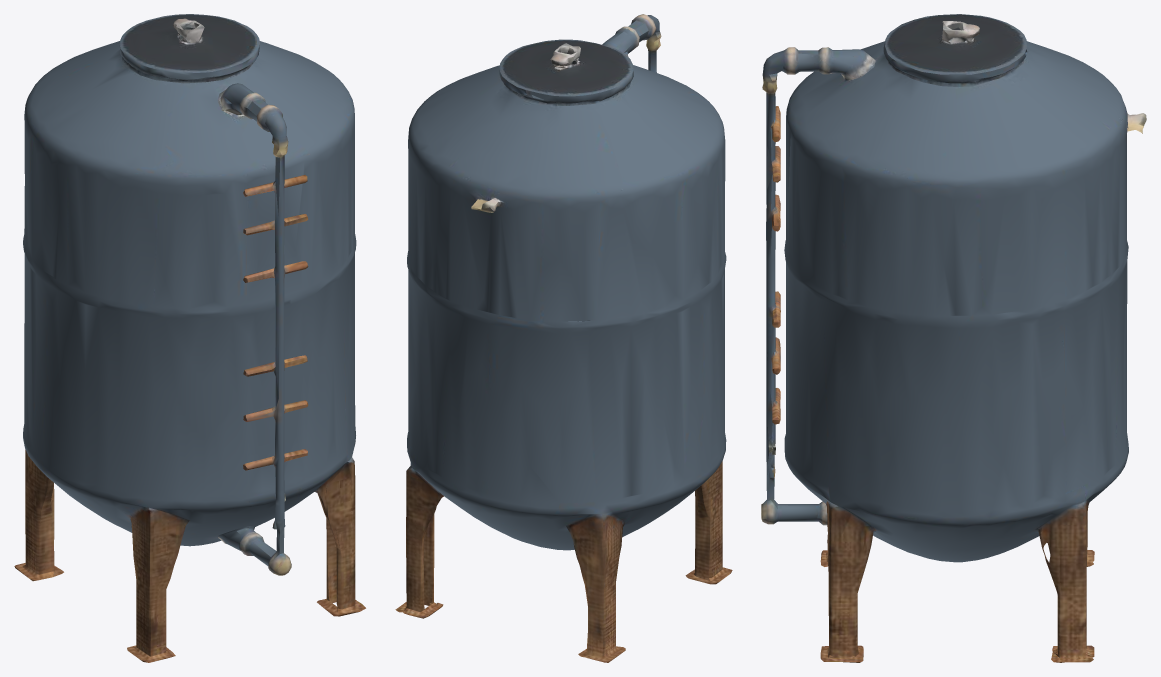
Rendered from tank.glb.
3 renders of one model, left to right at view 1: azimuth 30°, elevation 25°; view 2: azimuth 150°, elevation 25°; view 3: azimuth 270°, elevation 25°, orthographic. The views are drawn at different scales.
Visible parts, largest first — view 1: tank; view 2: tank; view 3: tank.
Boxes of the visible parts, x1,y1,x2,y2 form: tank: (14, 14, 365, 662); tank: (395, 14, 732, 662); tank: (761, 14, 1146, 662).
Size of the model in its own units: 2.24 by 4.2 by 2.52.
1 material, 1 textured.
